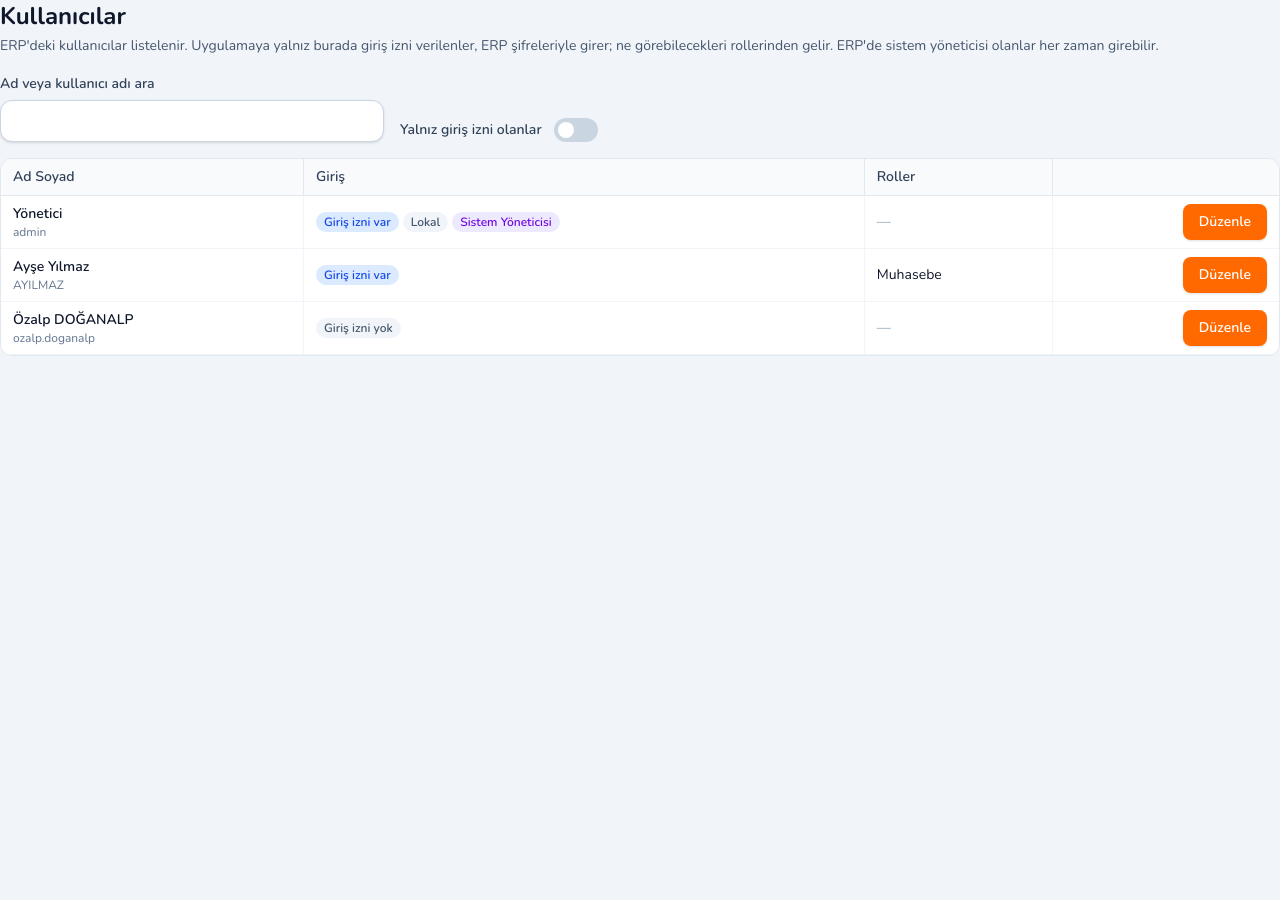
Test: KullanicilarPage › giriş izni kaldırılamayan kullanıcıda anahtar kilitlidir
The width and height of the screenshot is (1280, 900).
Check: the text "Yönetici" is shown, box [13,204,62,223]
Click the button "Düzenle" in the row of "admin": point(1225, 222) [1183,204,1267,240]
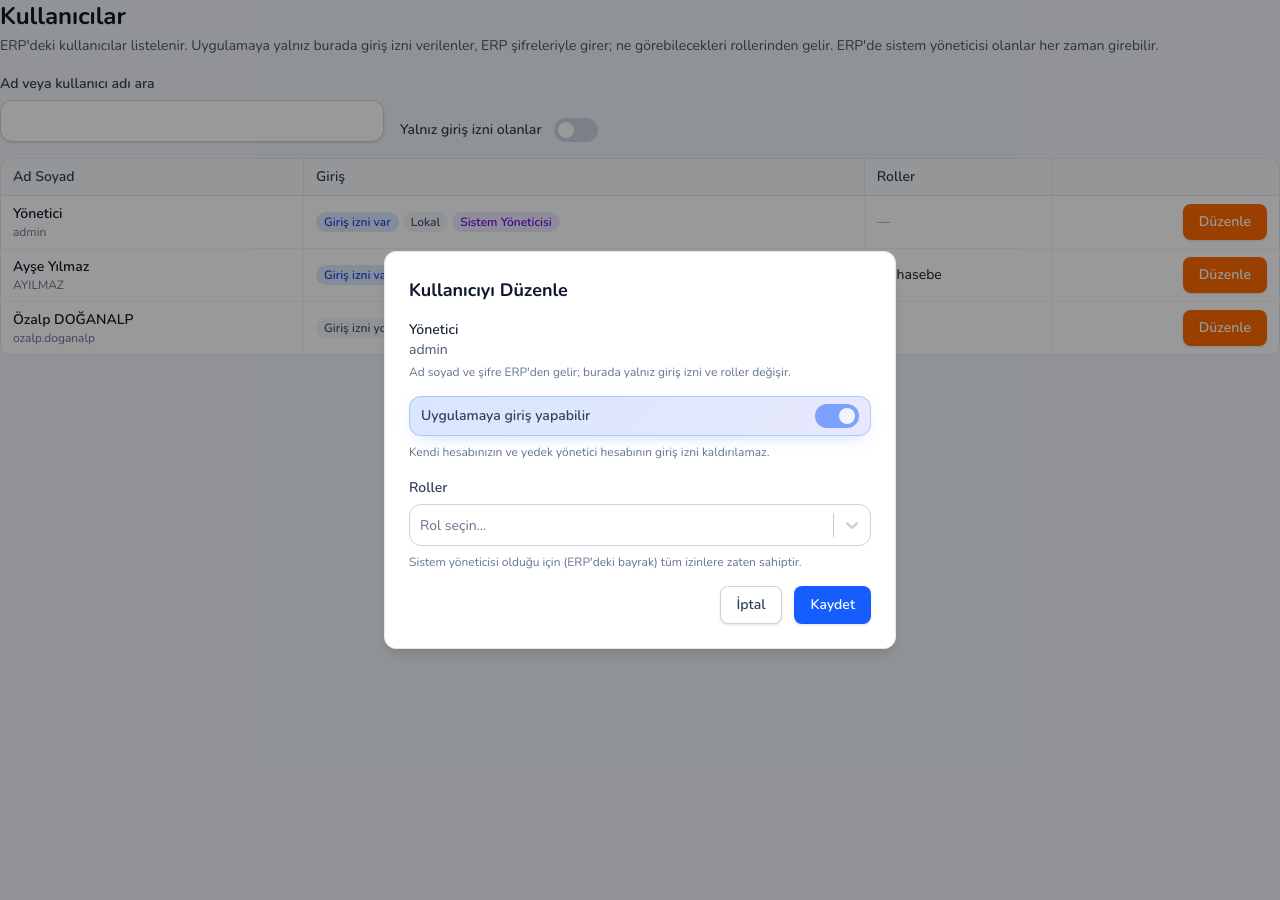
Check: the switch named "Uygulamaya giriş yapabilir" is disabled, box [815,404,859,428]
